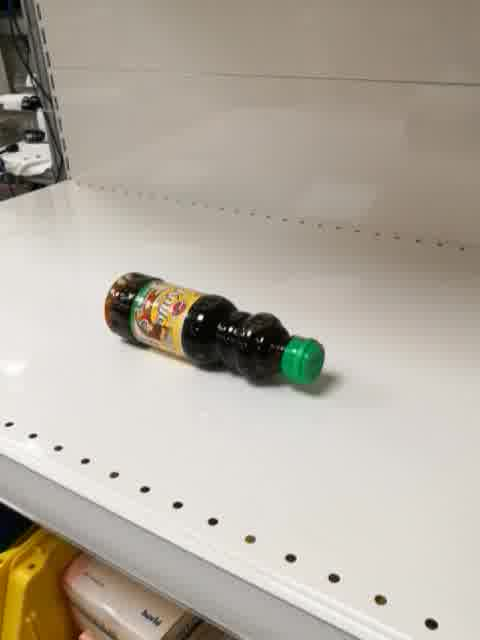cookingoil: (102, 270, 327, 389)
